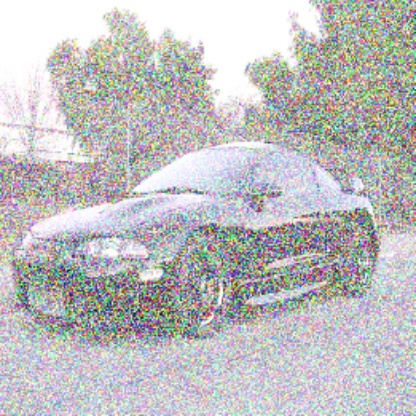Vehicle: (10, 139, 380, 340)
